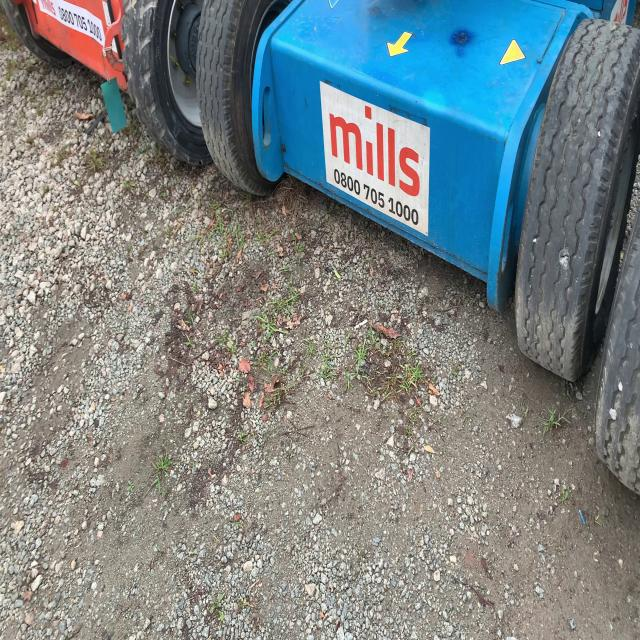Adesivos: (318, 79, 433, 239)
